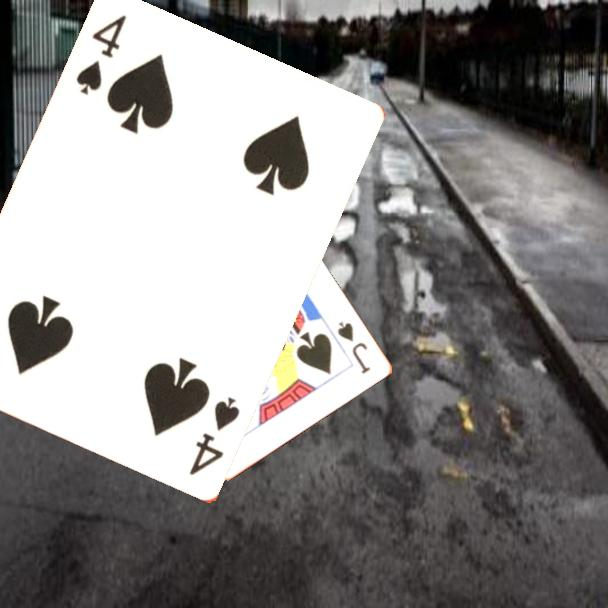s04: (73, 12, 130, 99), (186, 393, 243, 479)
s11: (334, 318, 374, 377)
